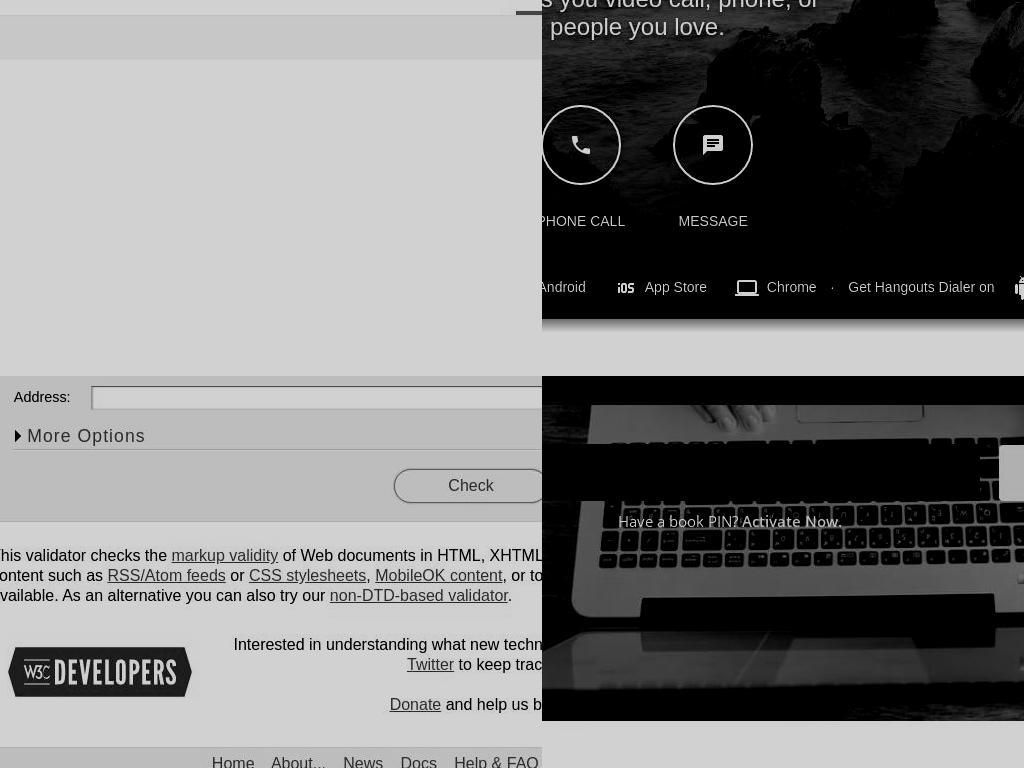button: (673, 105, 754, 185), (542, 105, 621, 185), (394, 469, 542, 504), (15, 425, 147, 448), (454, 755, 540, 768), (270, 755, 326, 768), (211, 755, 255, 768), (343, 755, 384, 768), (400, 755, 437, 768)
field: (542, 444, 980, 501), (91, 386, 542, 411)
image: (542, 0, 1024, 255), (7, 647, 193, 698), (613, 276, 638, 301), (734, 276, 759, 301), (568, 133, 593, 157), (701, 133, 726, 157), (1012, 276, 1024, 301)
label: (11, 389, 73, 406)
link: (407, 636, 542, 674), (329, 587, 508, 605), (375, 567, 503, 585), (107, 567, 226, 585), (248, 567, 366, 585), (171, 547, 278, 565), (389, 696, 441, 714), (506, 755, 539, 768)
text: (0, 547, 542, 585), (542, 376, 1024, 405), (542, 0, 854, 41), (0, 587, 330, 605), (233, 636, 542, 654), (0, 547, 172, 565), (618, 510, 742, 531), (848, 279, 1000, 295), (742, 510, 842, 531), (441, 696, 542, 714), (454, 656, 542, 674), (542, 213, 626, 229), (673, 213, 754, 229), (641, 279, 711, 295), (762, 279, 817, 295), (542, 279, 591, 295), (502, 567, 542, 585), (454, 755, 508, 768), (225, 567, 249, 585), (826, 279, 838, 295), (366, 567, 376, 585), (507, 587, 512, 605)
